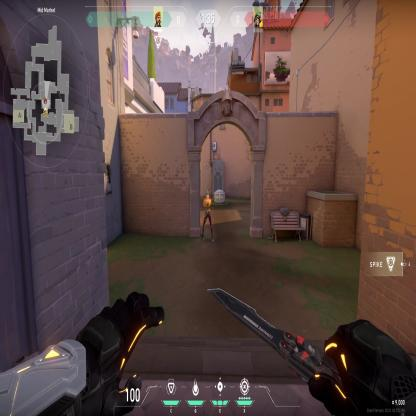enemy: (199, 188, 214, 244)
